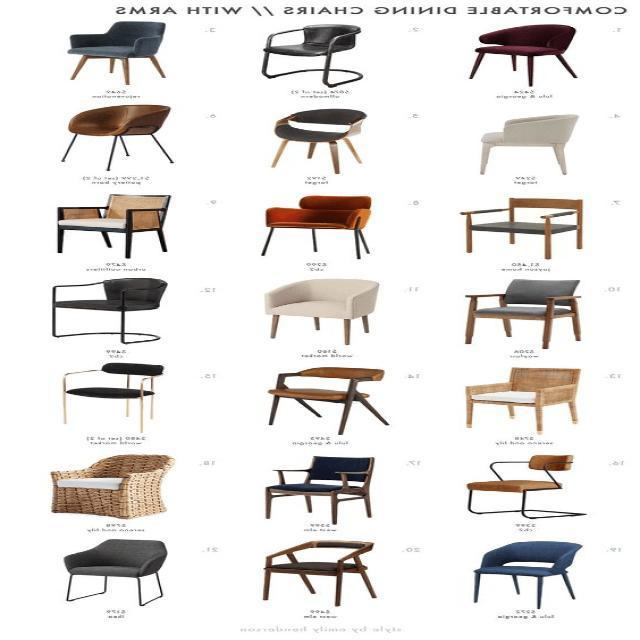chair: (258, 188, 392, 262), (458, 538, 597, 606), (52, 358, 172, 436), (454, 192, 588, 260), (256, 361, 391, 426), (52, 104, 184, 168), (456, 455, 590, 518), (48, 193, 180, 256), (256, 455, 388, 518), (52, 538, 173, 606), (461, 276, 578, 346), (256, 537, 384, 598), (264, 17, 366, 92), (470, 113, 592, 173), (266, 278, 386, 338), (59, 18, 175, 78), (461, 369, 584, 425), (468, 26, 586, 78), (266, 109, 368, 167), (458, 275, 592, 318), (452, 365, 586, 408), (50, 192, 191, 232), (452, 538, 590, 577), (263, 276, 386, 318), (454, 454, 581, 494), (59, 99, 182, 140), (266, 453, 384, 495), (258, 192, 392, 228), (466, 197, 584, 237), (270, 540, 377, 580), (268, 361, 382, 397), (256, 24, 368, 60), (466, 22, 578, 58), (70, 22, 175, 53), (254, 108, 368, 136)
